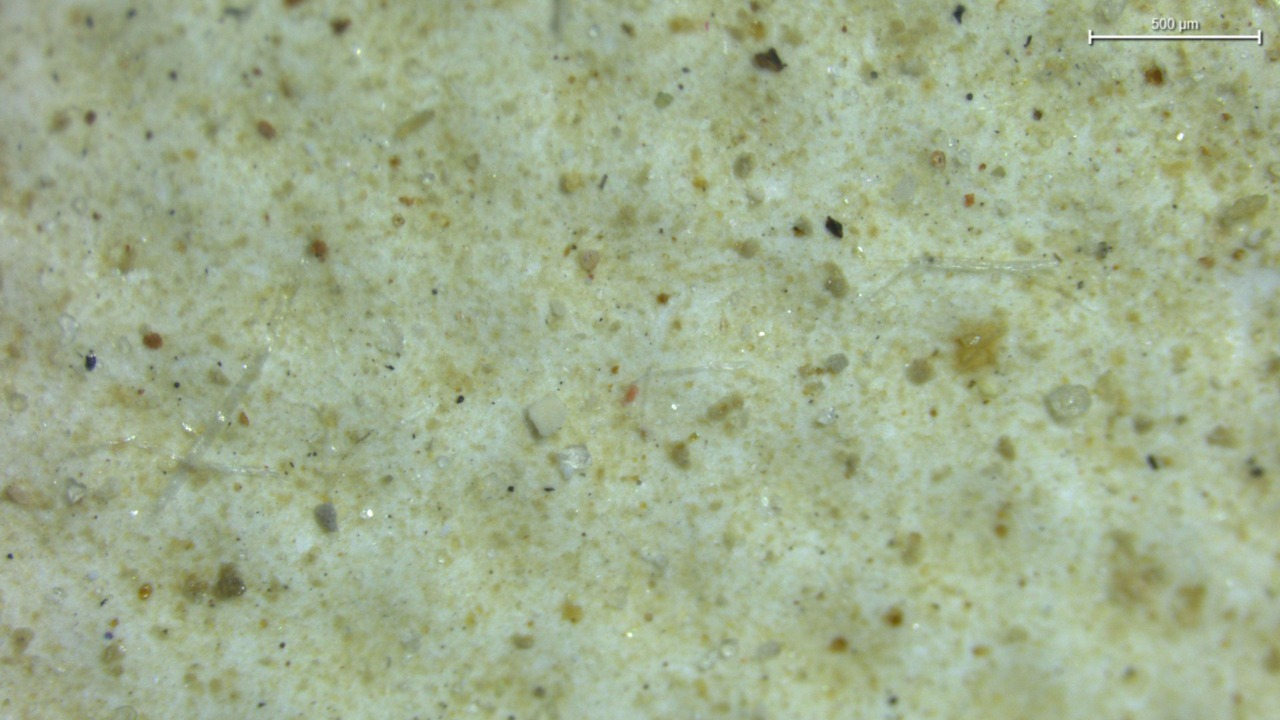microplastic_fragment: (1045, 384, 1092, 423), (527, 394, 566, 437), (557, 445, 591, 481)
